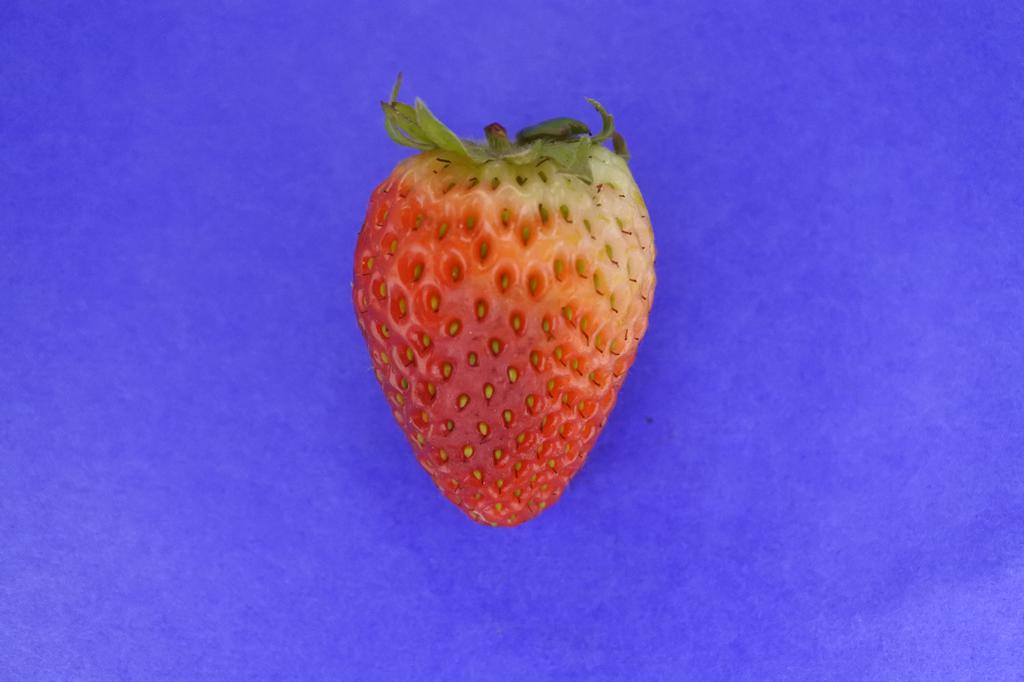red strawberry: (353, 75, 658, 529)
